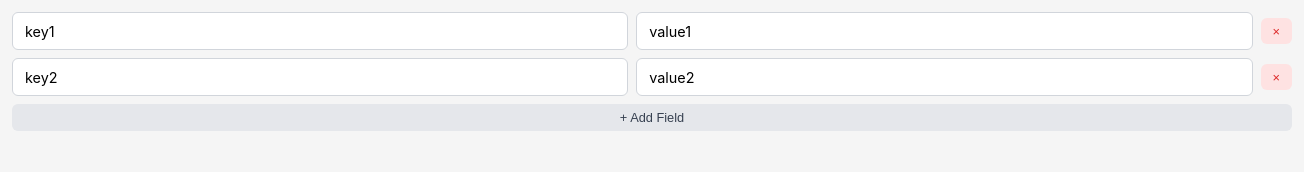
Test: KeyValueList › removes a pair when remove button is clicked
This screenshot has width=1304, height=172.
Click the button named "remove" at (1276, 31), box 1260,18 -> 1292,44
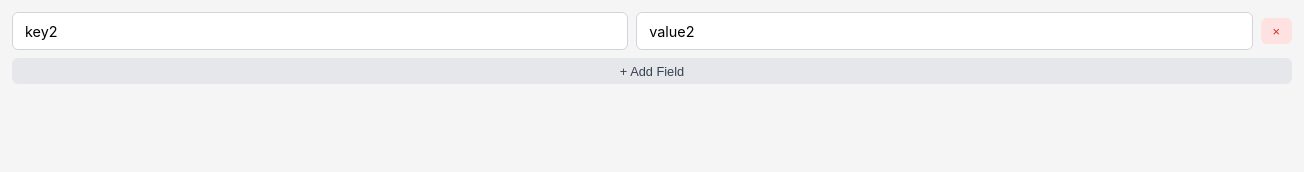
Result: the number of fields is 2 at 12,12 -> 628,50; 636,12 -> 1253,50
Result: the field named "Key 1" holds "key2" at 12,12 -> 628,50
